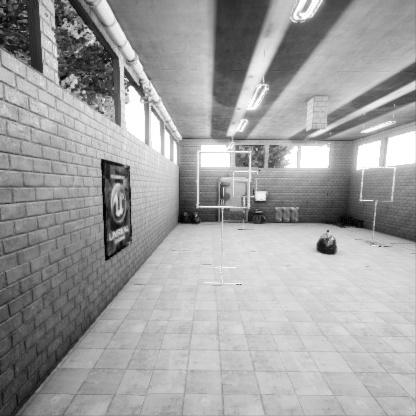gate: (197, 210, 254, 267), (363, 215, 401, 250), (232, 220, 259, 246)
